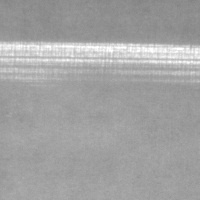scratches: (0, 42, 198, 71)
